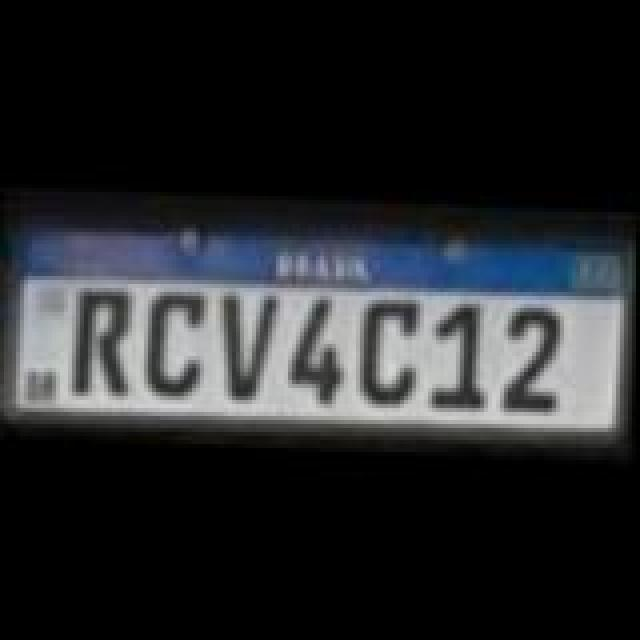1: (422, 290, 490, 410)
2: (492, 300, 572, 412)
4: (284, 284, 348, 408)
C: (352, 280, 424, 400), (142, 286, 202, 394)
R: (74, 284, 134, 396)
V: (208, 290, 280, 406)
